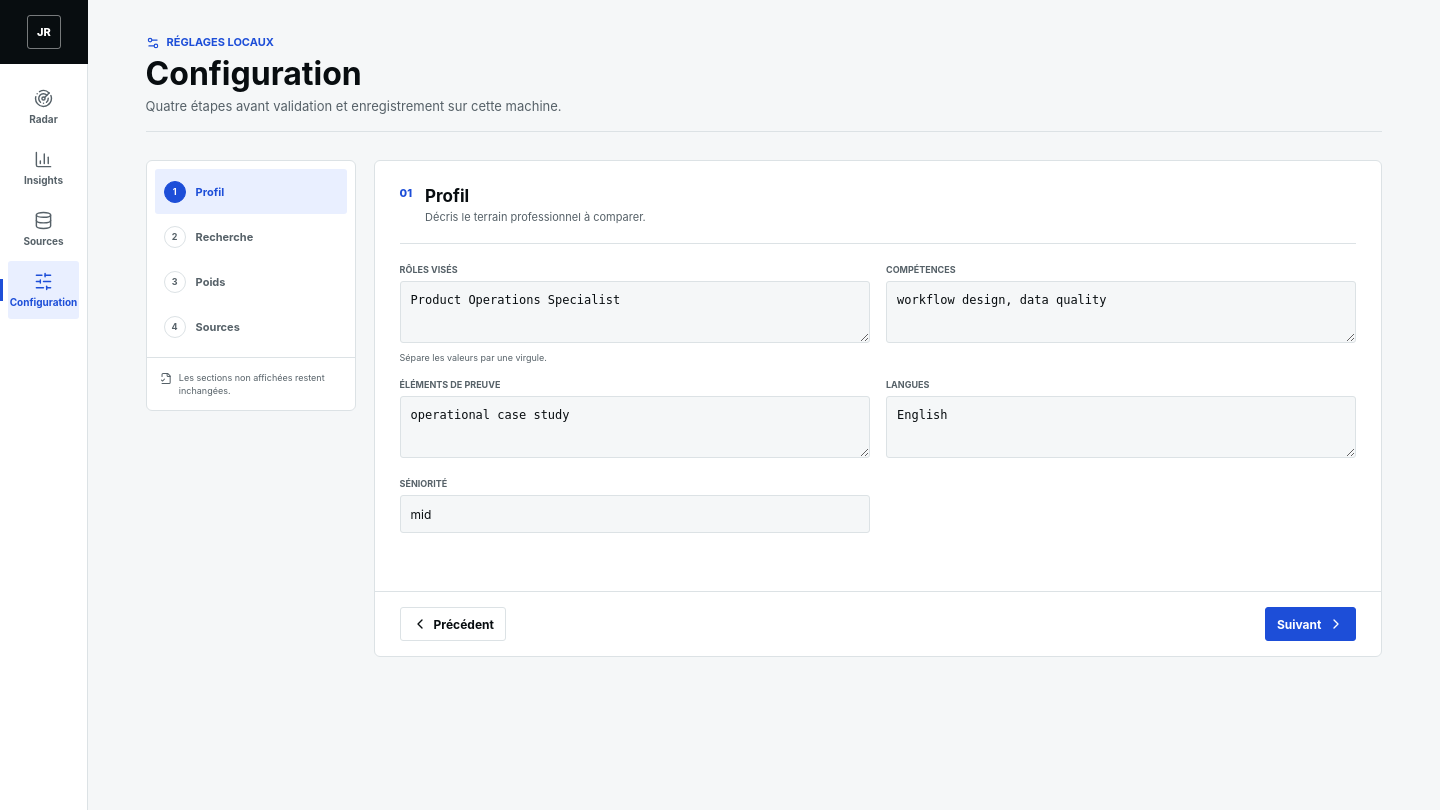
it: ConfigurationPage › affiche les erreurs de validation et ne propose aucune confirmation
Expected: the heading "Profil" is shown, [425, 186, 469, 206]
Click the button "Suivant" at (1311, 624), box [1265, 607, 1356, 641]
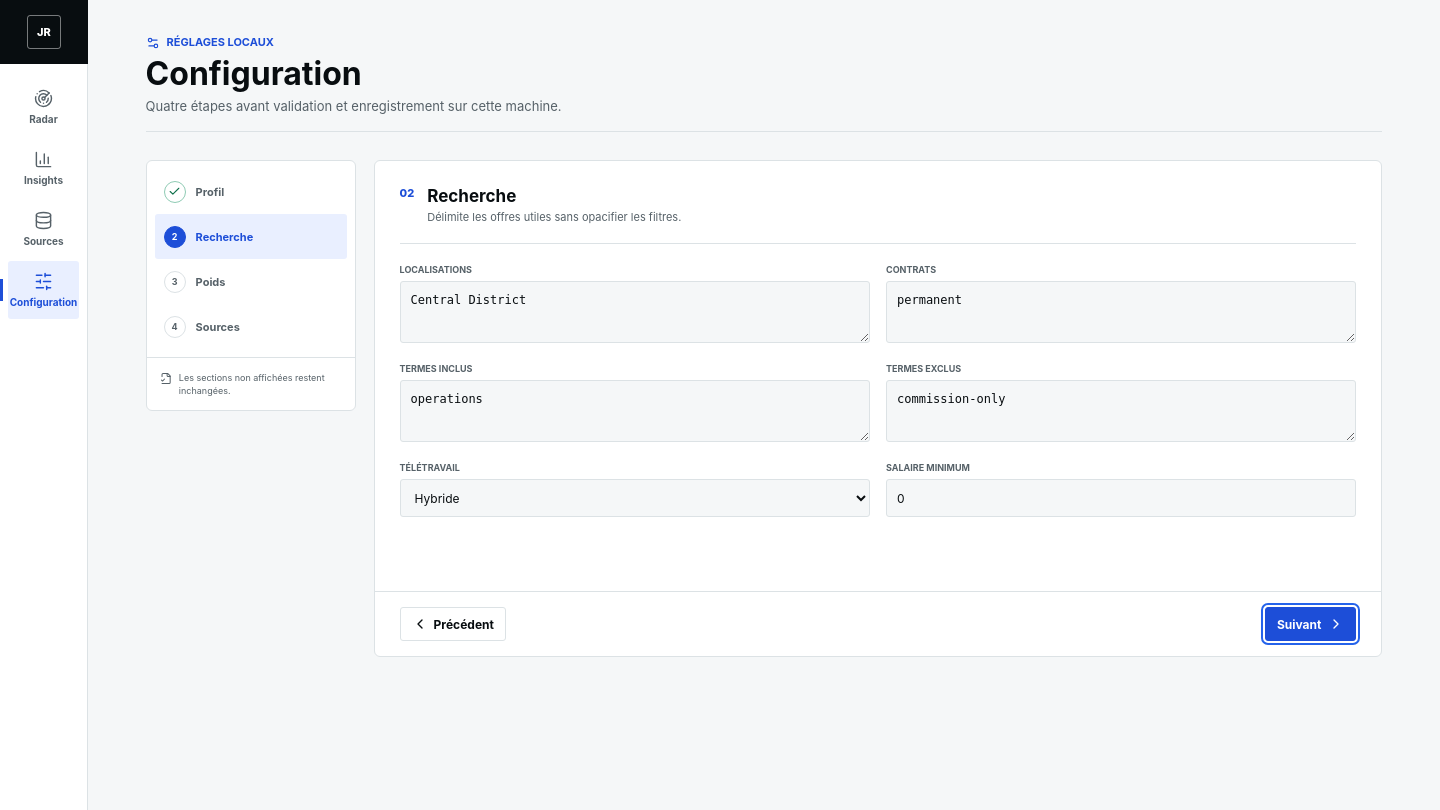
Click the button "Suivant" at (1311, 624), box [1265, 607, 1356, 641]
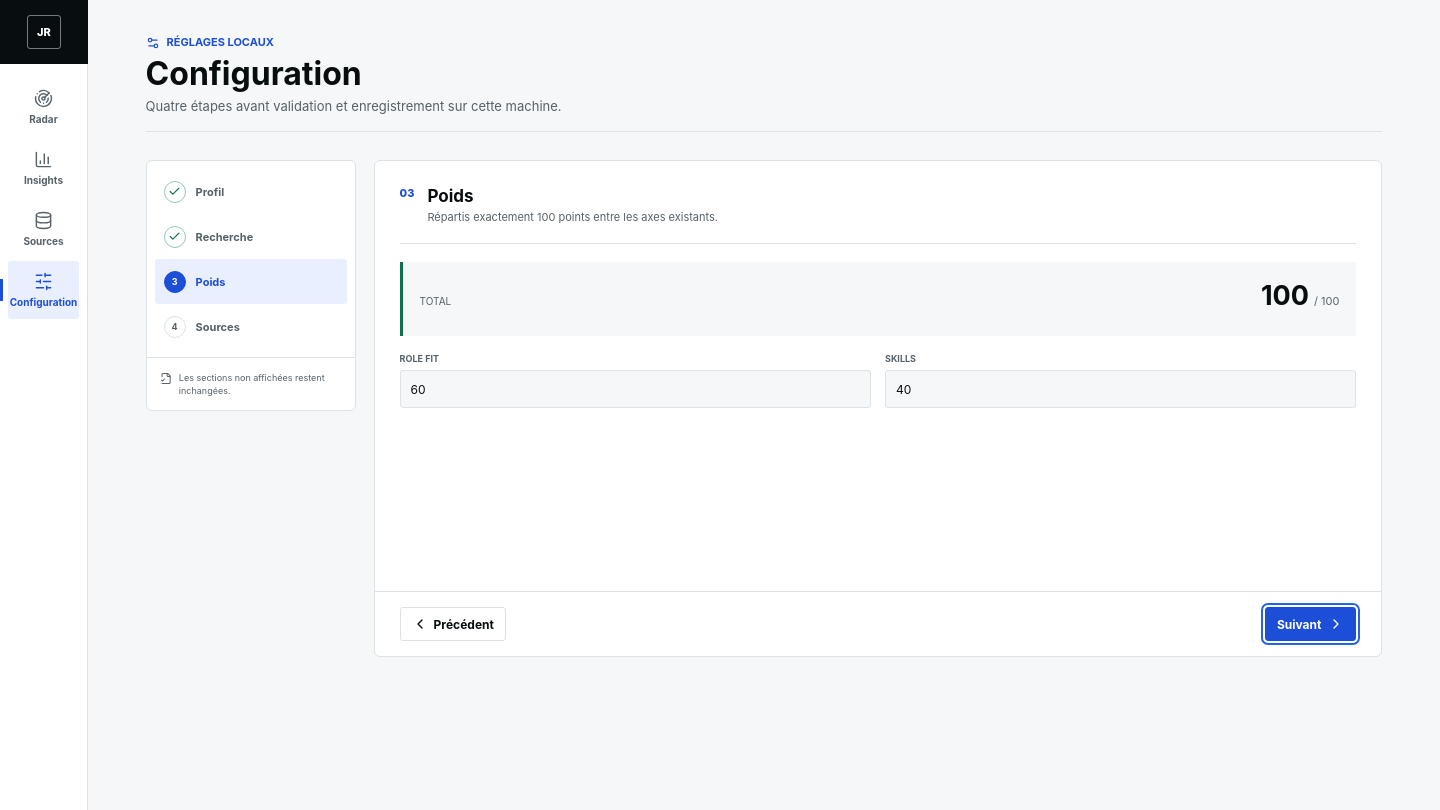
Click the button "Suivant" at (1311, 624), box [1265, 607, 1356, 641]
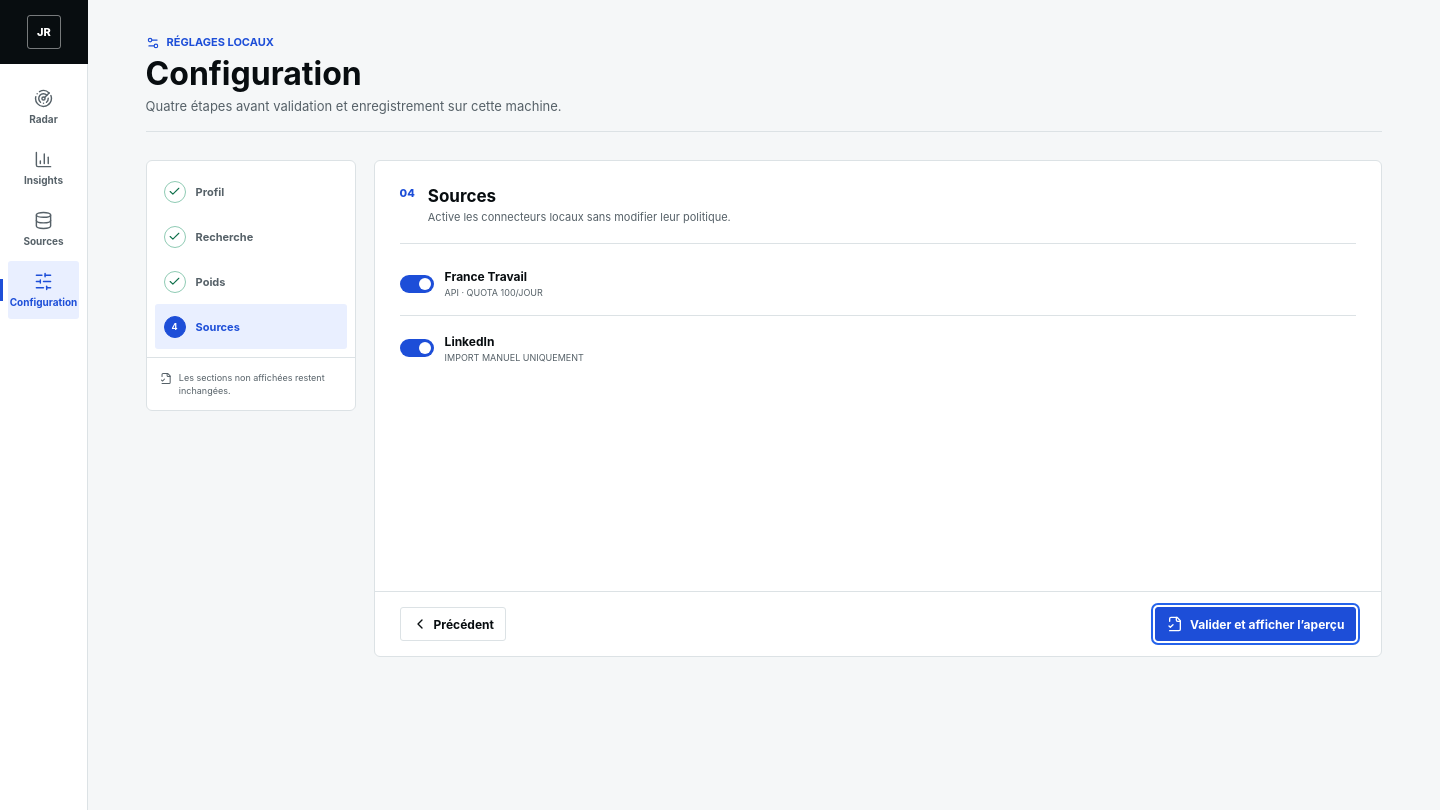
Click the button "Valider et afficher l’aperçu" at (1256, 624), box [1155, 607, 1356, 641]
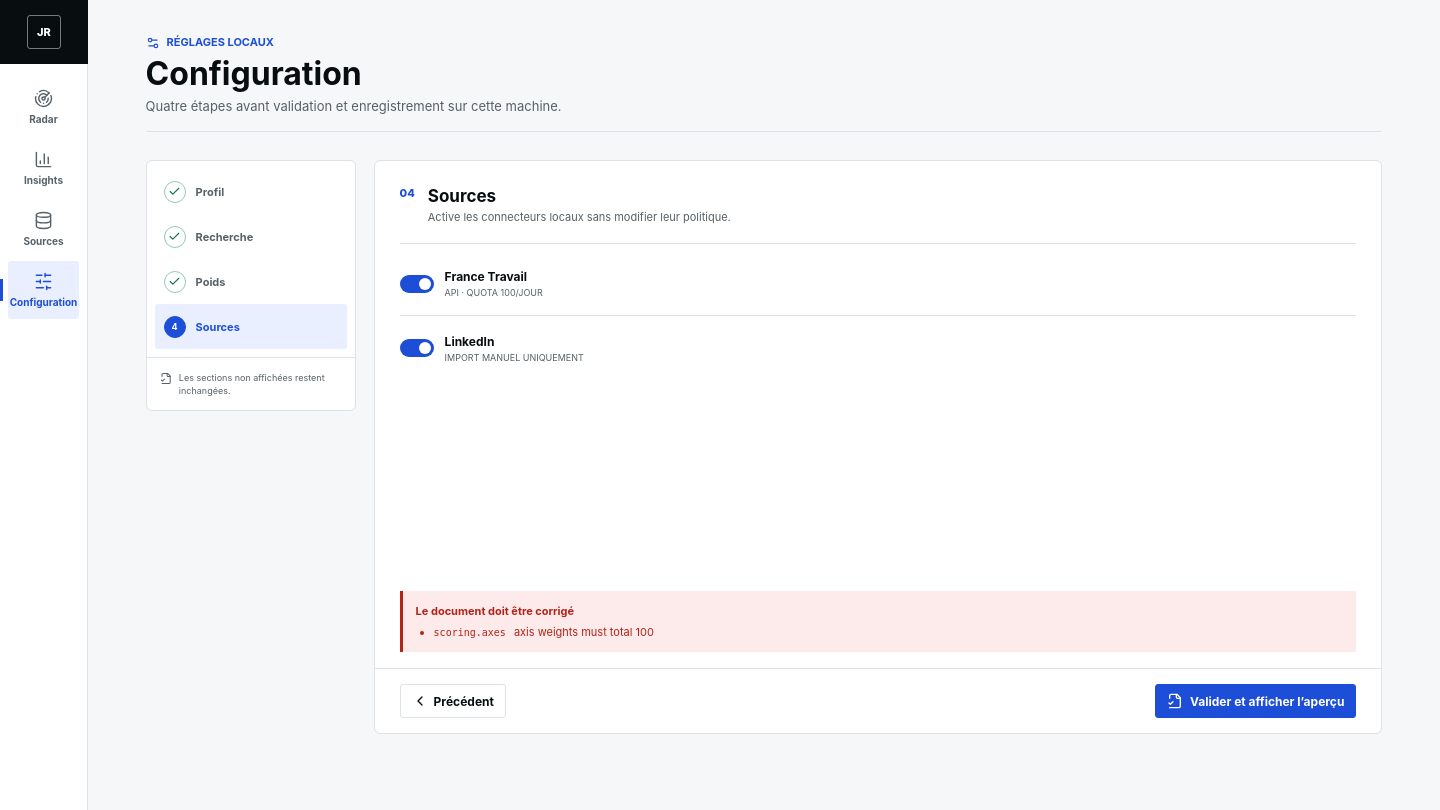
Now the message shows "scoring.axes", box [434, 627, 506, 638]
